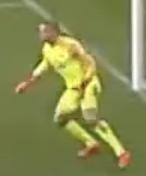goalkeeper: (9, 14, 142, 176)
